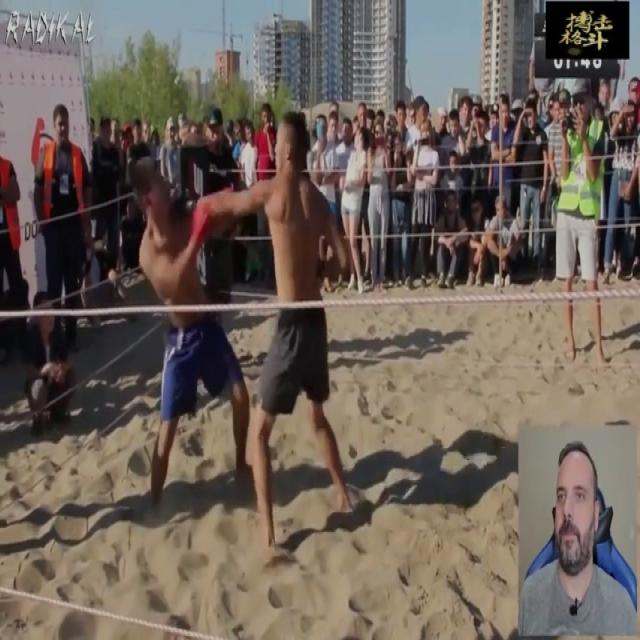fight: (129, 76, 361, 560)
non-fight: (31, 100, 94, 372), (556, 70, 611, 370), (405, 90, 437, 290), (609, 75, 639, 285)
